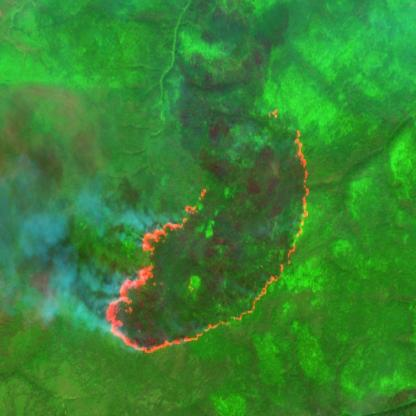fire: (103, 102, 313, 356)
